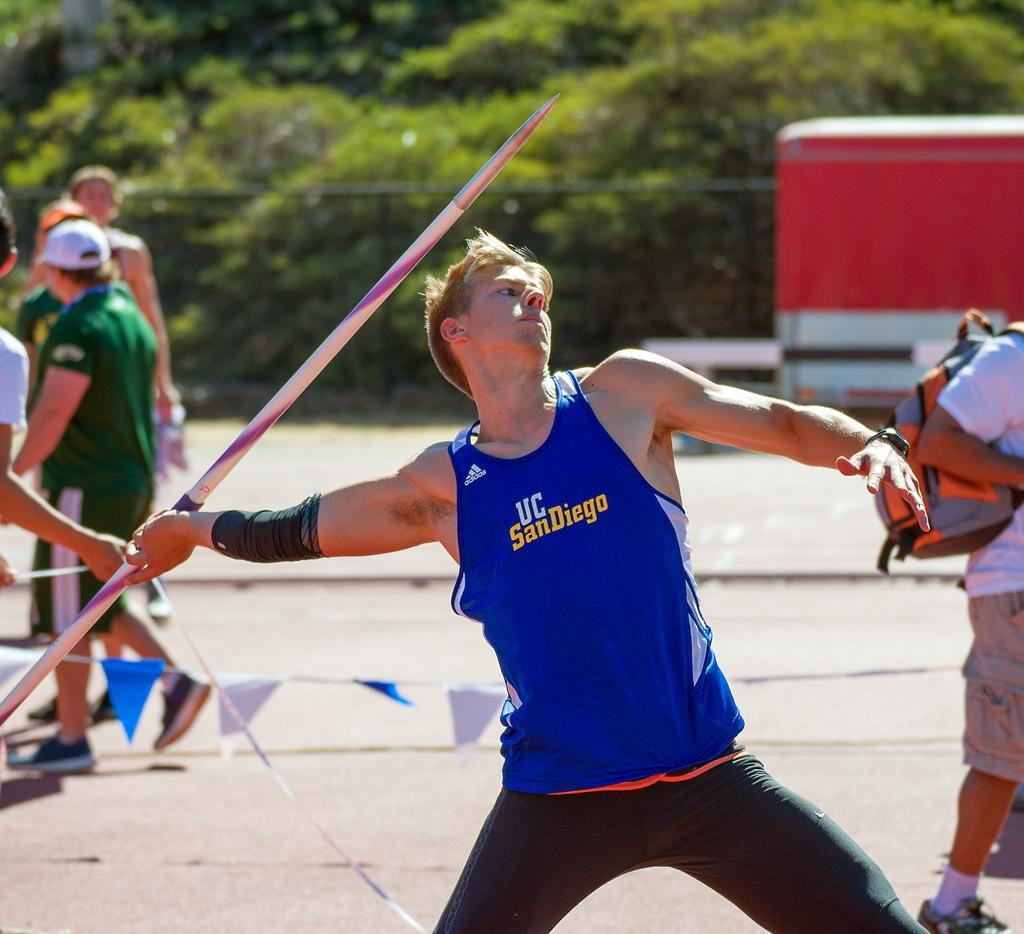Sem Máscara: (458, 260, 551, 356)
